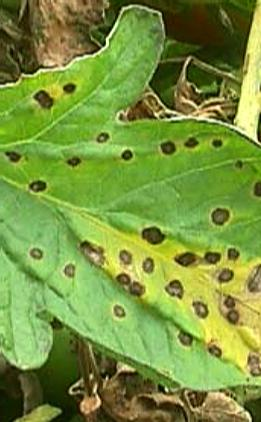Tomato leaf bacterial spot: (0, 7, 261, 403)
